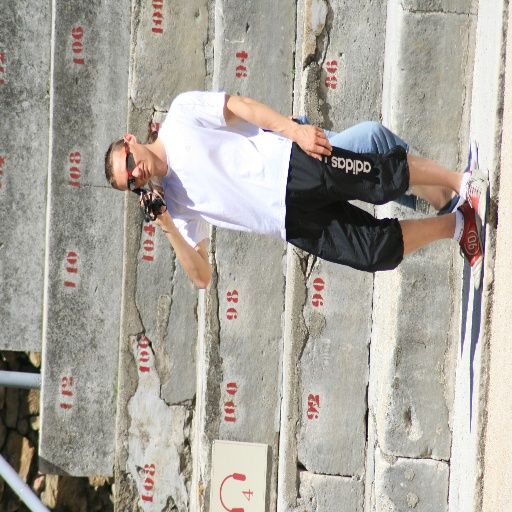hand: (295, 113, 339, 160), (138, 186, 167, 227)
